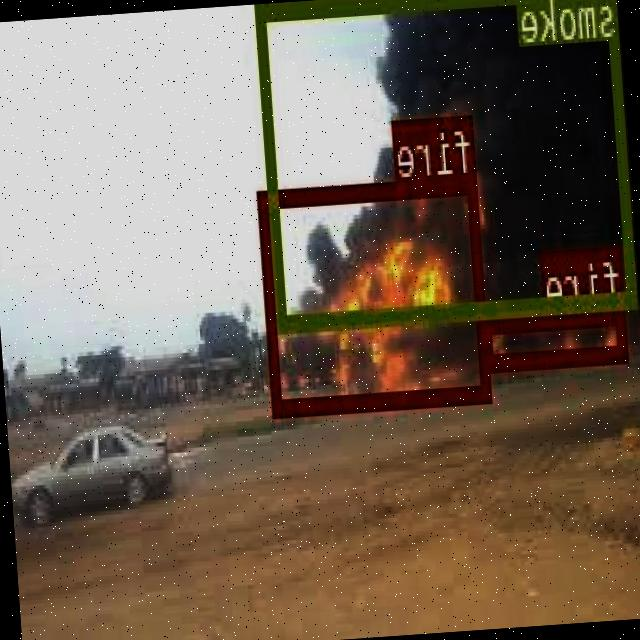fire: (259, 172, 492, 415), (482, 304, 629, 368)
smoke: (257, 0, 639, 330)
